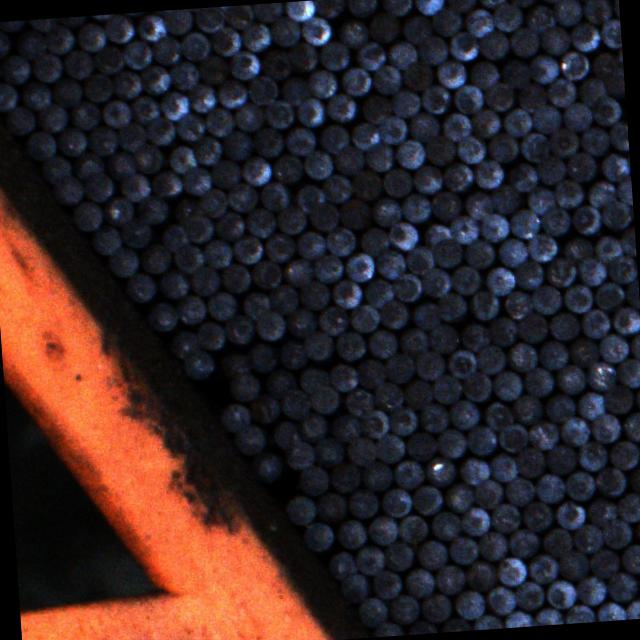tool: (283, 168, 335, 214), (394, 4, 439, 52), (583, 36, 624, 80), (85, 221, 124, 256), (336, 195, 371, 230), (351, 542, 387, 576), (54, 124, 88, 160), (70, 149, 107, 182), (462, 558, 497, 592), (402, 428, 437, 462), (122, 270, 157, 304), (281, 122, 316, 156), (17, 78, 51, 113), (258, 45, 292, 80), (316, 38, 351, 72), (351, 38, 386, 72), (554, 548, 590, 581), (406, 109, 442, 142), (387, 591, 421, 625), (552, 498, 586, 532), (440, 479, 474, 513), (144, 298, 178, 332), (50, 174, 84, 208), (84, 124, 118, 158), (366, 10, 400, 44), (483, 583, 518, 616), (546, 309, 581, 342), (598, 517, 633, 550), (156, 265, 189, 300), (202, 105, 237, 138), (493, 235, 528, 268), (392, 512, 428, 544), (592, 464, 628, 496), (276, 72, 312, 104), (482, 262, 514, 298), (523, 552, 557, 585), (312, 490, 346, 523), (232, 422, 266, 455), (370, 379, 404, 412), (353, 355, 387, 388), (566, 334, 600, 367), (328, 276, 362, 309), (139, 240, 172, 274), (294, 228, 328, 261), (68, 199, 102, 232), (81, 170, 115, 203), (39, 152, 73, 185), (220, 129, 254, 162), (305, 66, 338, 100), (48, 74, 82, 107), (78, 70, 112, 103), (477, 211, 511, 244), (369, 194, 402, 228), (422, 134, 456, 167), (384, 37, 418, 70), (367, 568, 402, 600), (342, 434, 377, 466), (503, 340, 538, 372), (283, 306, 318, 338), (360, 275, 395, 307), (399, 59, 434, 91), (464, 58, 499, 90), (518, 499, 554, 530), (296, 462, 329, 495), (422, 454, 455, 487), (180, 347, 213, 380), (315, 303, 348, 336), (583, 494, 616, 527), (324, 225, 357, 258), (119, 215, 152, 248), (30, 49, 63, 82), (411, 161, 444, 194), (441, 160, 474, 193), (598, 149, 631, 182), (516, 130, 549, 163), (545, 75, 578, 108), (477, 28, 510, 61), (354, 594, 388, 626), (300, 520, 334, 552), (346, 486, 380, 518), (329, 460, 361, 494), (313, 434, 347, 466), (217, 400, 251, 432), (227, 370, 261, 402), (536, 337, 568, 371), (363, 326, 397, 358), (604, 570, 638, 602), (593, 280, 625, 314), (298, 278, 330, 312), (219, 261, 251, 295), (238, 154, 272, 186), (270, 152, 304, 184), (331, 144, 365, 176), (158, 88, 192, 120), (216, 76, 250, 108), (92, 42, 124, 76), (12, 26, 46, 58), (544, 255, 576, 289), (428, 188, 462, 220), (578, 124, 610, 158), (498, 56, 530, 90), (416, 32, 448, 66), (334, 16, 368, 48), (413, 539, 448, 570), (261, 367, 297, 397), (419, 590, 452, 622), (475, 529, 508, 561), (392, 456, 424, 489), (514, 444, 546, 477), (243, 340, 276, 372), (602, 382, 634, 415), (561, 282, 594, 314), (105, 246, 138, 278), (232, 232, 264, 265), (358, 224, 391, 256), (213, 210, 246, 242), (244, 205, 276, 238), (350, 168, 382, 201), (339, 66, 372, 98), (61, 47, 94, 79), (121, 38, 154, 70), (239, 20, 272, 52), (576, 255, 608, 288), (605, 252, 638, 284), (448, 212, 480, 245), (569, 202, 601, 235), (489, 182, 522, 214), (486, 130, 518, 163), (358, 92, 391, 124), (389, 85, 421, 118), (451, 82, 484, 114), (434, 56, 466, 89), (557, 46, 590, 78), (539, 23, 572, 55), (400, 567, 434, 598), (248, 448, 282, 479), (262, 231, 296, 262), (100, 194, 134, 225), (504, 160, 538, 191), (359, 460, 394, 490), (212, 348, 248, 377), (453, 588, 485, 620), (334, 516, 366, 548), (562, 468, 594, 500), (495, 422, 527, 454), (526, 418, 558, 450), (306, 384, 338, 416), (426, 320, 458, 352), (252, 309, 284, 341), (347, 301, 379, 333), (530, 282, 562, 314), (588, 412, 620, 444), (597, 332, 629, 364), (580, 306, 612, 338), (268, 282, 300, 314), (342, 249, 374, 281), (171, 242, 203, 274), (196, 186, 228, 218), (226, 180, 258, 212), (320, 172, 352, 204), (24, 128, 56, 160), (262, 98, 294, 130), (295, 96, 327, 128), (4, 104, 36, 136), (104, 12, 136, 44), (512, 260, 544, 292), (460, 187, 492, 219), (552, 177, 584, 209), (381, 166, 413, 198), (471, 157, 503, 189), (566, 150, 598, 182), (392, 137, 424, 169), (515, 80, 547, 112), (508, 26, 540, 58), (568, 20, 600, 52), (492, 0, 524, 32), (505, 527, 538, 558), (458, 504, 489, 537), (328, 411, 361, 442), (577, 439, 608, 472), (210, 157, 241, 190), (246, 74, 279, 105), (197, 53, 230, 84), (387, 219, 418, 252), (420, 82, 451, 115), (447, 29, 478, 62), (276, 387, 310, 417), (248, 258, 282, 288), (136, 193, 170, 223), (316, 123, 350, 153), (34, 102, 68, 132), (111, 66, 141, 100), (134, 12, 168, 42), (559, 234, 593, 264), (400, 190, 430, 224), (433, 562, 464, 594), (490, 368, 522, 399), (474, 342, 506, 373), (516, 311, 548, 342), (588, 546, 619, 578), (608, 438, 640, 469), (609, 304, 640, 336), (281, 255, 313, 286), (275, 203, 306, 235), (258, 180, 290, 211), (133, 142, 164, 174), (252, 125, 284, 156), (115, 121, 146, 153), (143, 115, 175, 146), (173, 110, 204, 142), (178, 30, 210, 61), (300, 15, 332, 46), (462, 237, 494, 268), (526, 231, 558, 262), (509, 208, 540, 240), (538, 206, 570, 237), (455, 132, 486, 164), (529, 51, 560, 83), (488, 448, 518, 481), (434, 428, 467, 458), (429, 372, 462, 402), (297, 363, 330, 393), (204, 290, 237, 320), (117, 170, 150, 200), (149, 168, 182, 198), (302, 147, 332, 180), (420, 265, 450, 298), (448, 264, 481, 294), (481, 80, 514, 110), (383, 540, 414, 571), (482, 399, 513, 430), (544, 390, 575, 421), (461, 371, 492, 402), (584, 360, 615, 391), (183, 212, 214, 243), (307, 200, 338, 231), (287, 41, 318, 72), (44, 23, 75, 54), (431, 237, 462, 268), (535, 154, 566, 185), (378, 114, 409, 145), (590, 95, 621, 126), (544, 578, 576, 608), (574, 574, 606, 604), (364, 514, 396, 544), (488, 502, 520, 532), (409, 484, 441, 514), (456, 454, 488, 484), (558, 414, 588, 446), (387, 404, 419, 434), (522, 366, 554, 396), (553, 364, 585, 394), (384, 350, 414, 382), (444, 348, 476, 378), (302, 330, 334, 360), (395, 324, 427, 354), (486, 314, 516, 346), (194, 320, 226, 350), (377, 298, 407, 330), (574, 388, 604, 420), (181, 164, 213, 194), (234, 100, 264, 132), (326, 92, 356, 124), (0, 52, 30, 84), (270, 14, 300, 46), (74, 21, 106, 51), (392, 271, 422, 303), (374, 248, 404, 280), (524, 184, 556, 214), (546, 128, 578, 158), (347, 120, 379, 150), (470, 106, 500, 138), (530, 104, 562, 134), (370, 63, 400, 95), (430, 6, 462, 36), (448, 534, 479, 564), (571, 522, 602, 552), (429, 510, 460, 540), (472, 478, 503, 508), (533, 472, 563, 503), (546, 442, 577, 472), (282, 438, 313, 468), (374, 433, 405, 463), (466, 423, 496, 454), (270, 418, 301, 448), (447, 398, 478, 428), (512, 393, 542, 424), (248, 391, 278, 422), (402, 377, 432, 408), (274, 337, 304, 368), (408, 298, 439, 328), (468, 288, 498, 319), (503, 287, 533, 318), (188, 264, 219, 294), (202, 237, 232, 268), (165, 144, 196, 174), (192, 135, 222, 166), (68, 100, 99, 130), (99, 98, 130, 128), (139, 63, 169, 94), (168, 59, 198, 90), (230, 49, 260, 80), (210, 26, 241, 56), (403, 244, 434, 274), (500, 106, 530, 137), (562, 100, 592, 131), (438, 290, 467, 322), (584, 177, 616, 206), (514, 580, 544, 610), (495, 555, 525, 585), (284, 494, 314, 524), (380, 486, 410, 516), (298, 411, 328, 441), (418, 402, 448, 432), (334, 330, 364, 360), (458, 320, 488, 350), (166, 327, 196, 357), (224, 313, 254, 343), (176, 294, 206, 324), (312, 252, 342, 282), (592, 231, 622, 261), (600, 200, 630, 230), (440, 110, 470, 140), (358, 408, 389, 437), (363, 142, 394, 171), (106, 149, 134, 181), (152, 34, 180, 66), (613, 489, 640, 522), (339, 572, 368, 602), (542, 526, 572, 555), (343, 386, 372, 416), (327, 360, 356, 390), (415, 350, 444, 380), (158, 222, 188, 251), (462, 7, 492, 36), (129, 94, 160, 122), (576, 75, 607, 103), (192, 6, 225, 32), (326, 548, 354, 578), (502, 474, 532, 502), (240, 288, 270, 316), (420, 222, 450, 250), (614, 356, 640, 388), (162, 8, 194, 34), (580, 0, 613, 25), (188, 83, 216, 112), (526, 4, 554, 32), (552, 0, 582, 26), (223, 4, 254, 29), (598, 18, 622, 49), (283, 0, 316, 22), (595, 598, 624, 622), (602, 68, 625, 98), (253, 2, 284, 24), (563, 602, 593, 624), (619, 409, 640, 440), (170, 200, 198, 223), (620, 541, 640, 573), (609, 119, 629, 150), (404, 616, 438, 634), (438, 614, 472, 632), (471, 610, 501, 630), (502, 608, 532, 628), (532, 606, 562, 626), (369, 620, 404, 637), (314, 0, 345, 18), (623, 278, 640, 310), (345, 0, 376, 17), (0, 80, 16, 112), (619, 225, 636, 254), (25, 18, 57, 33), (379, 0, 411, 15), (616, 175, 632, 204), (626, 462, 640, 494), (412, 0, 444, 14), (623, 596, 640, 619), (0, 26, 12, 58), (443, 0, 475, 12), (627, 332, 640, 361), (632, 514, 640, 544), (476, 0, 506, 8), (506, 0, 537, 7)
void: (266, 466, 300, 500), (198, 372, 230, 408)
